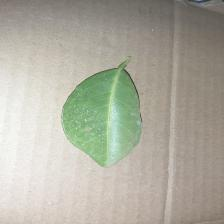greening: (94, 65, 139, 92)
